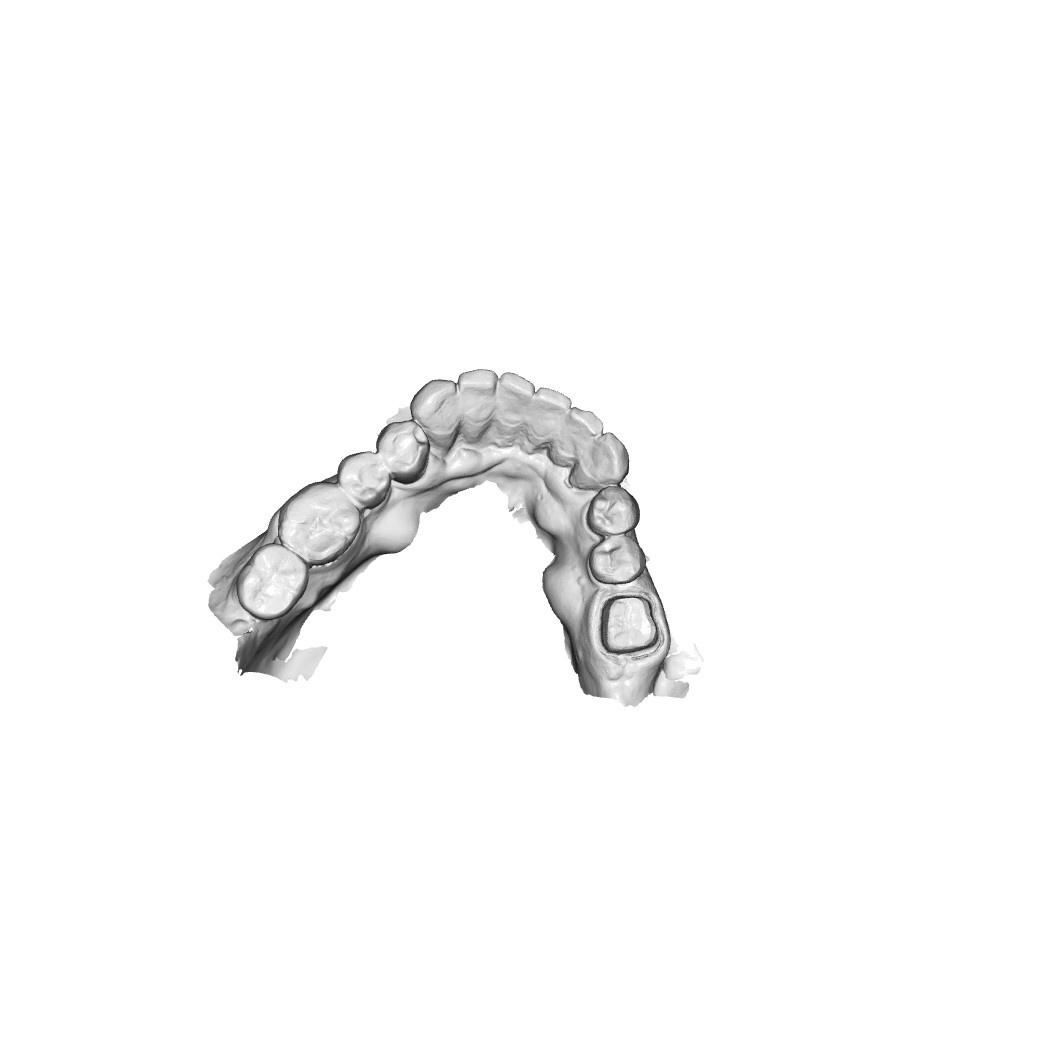canine: (409, 375, 461, 445), (566, 433, 632, 488)
crown: (596, 592, 668, 659)
incisor: (459, 367, 495, 442), (557, 403, 602, 461), (529, 384, 568, 449), (497, 374, 532, 442)
molar: (277, 483, 359, 557), (235, 543, 308, 625)
premolar: (590, 534, 647, 587), (338, 452, 388, 509), (584, 484, 638, 536), (379, 420, 431, 474)
